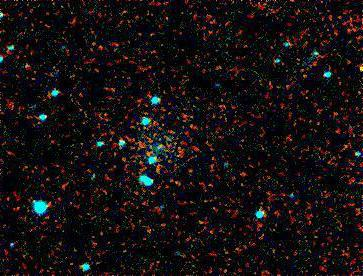star: (338, 57, 363, 87)
